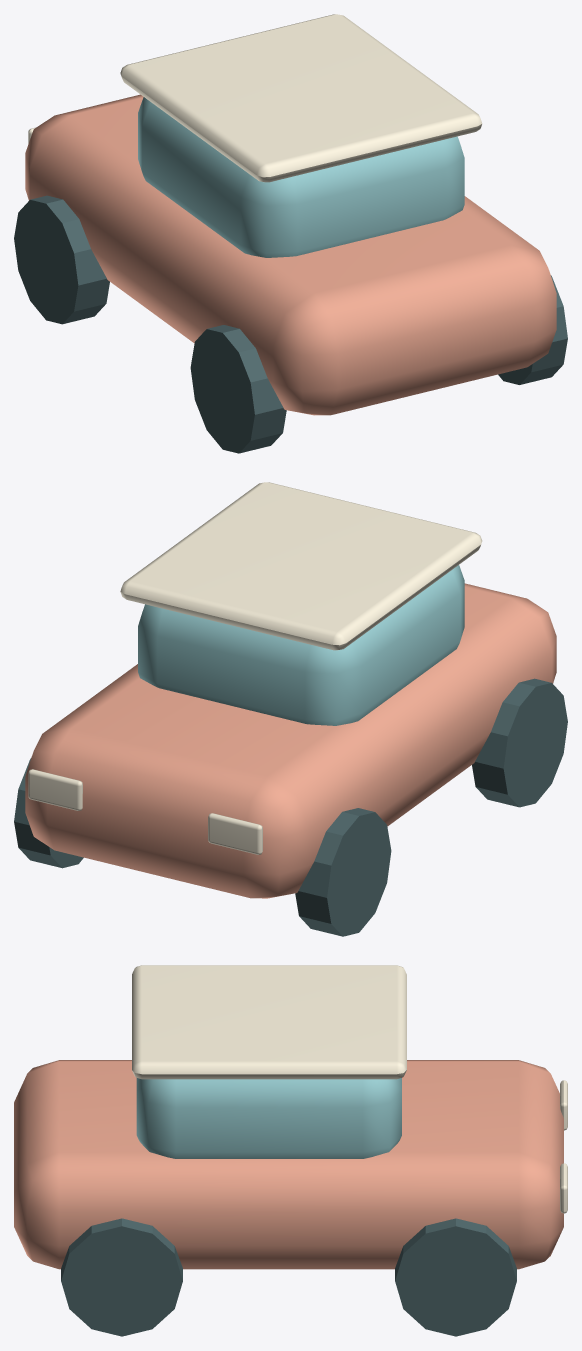
The model's file is resort-car.glb.
3 views of the same model, one above another, from view 1: azimuth 30°, elevation 25°; view 2: azimuth 150°, elevation 25°; view 3: azimuth 270°, elevation 25° (orthographic). The views are drawn at different scales.
Parts seen in each view (by area): view 1: Rounded body, Floating roof, Glass cabin, Tyre, Tyre.001, Tyre.002; view 2: Rounded body, Floating roof, Glass cabin, Tyre.001, Tyre, Tyre.003, Headlamp, Headlamp.001; view 3: Rounded body, Floating roof, Glass cabin, Tyre.002, Tyre.003.
Boxes of the visible parts, x1=… form: Rounded body: x1=25, y1=94, x2=556, y2=415; Floating roof: x1=120, y1=14, x2=482, y2=182; Glass cabin: x1=138, y1=97, x2=464, y2=257; Tyre: x1=190, y1=325, x2=286, y2=453; Tyre.001: x1=14, y1=195, x2=109, y2=324; Tyre.002: x1=498, y1=275, x2=567, y2=384; Rounded body: x1=25, y1=583, x2=556, y2=898; Floating roof: x1=120, y1=482, x2=482, y2=650; Glass cabin: x1=138, y1=565, x2=464, y2=725; Tyre.001: x1=295, y1=808, x2=391, y2=936; Tyre: x1=472, y1=678, x2=567, y2=807; Tyre.003: x1=14, y1=758, x2=83, y2=868; Headlamp: x1=208, y1=813, x2=262, y2=854; Headlamp.001: x1=28, y1=769, x2=82, y2=810; Rounded body: x1=14, y1=1060, x2=563, y2=1269; Floating roof: x1=132, y1=965, x2=406, y2=1079; Glass cabin: x1=136, y1=1078, x2=401, y2=1158; Tyre.002: x1=61, y1=1218, x2=182, y2=1336; Tyre.003: x1=395, y1=1218, x2=516, y2=1336.
Bounding box in the file's own units: 1.74 × 1.41 × 2.82.
